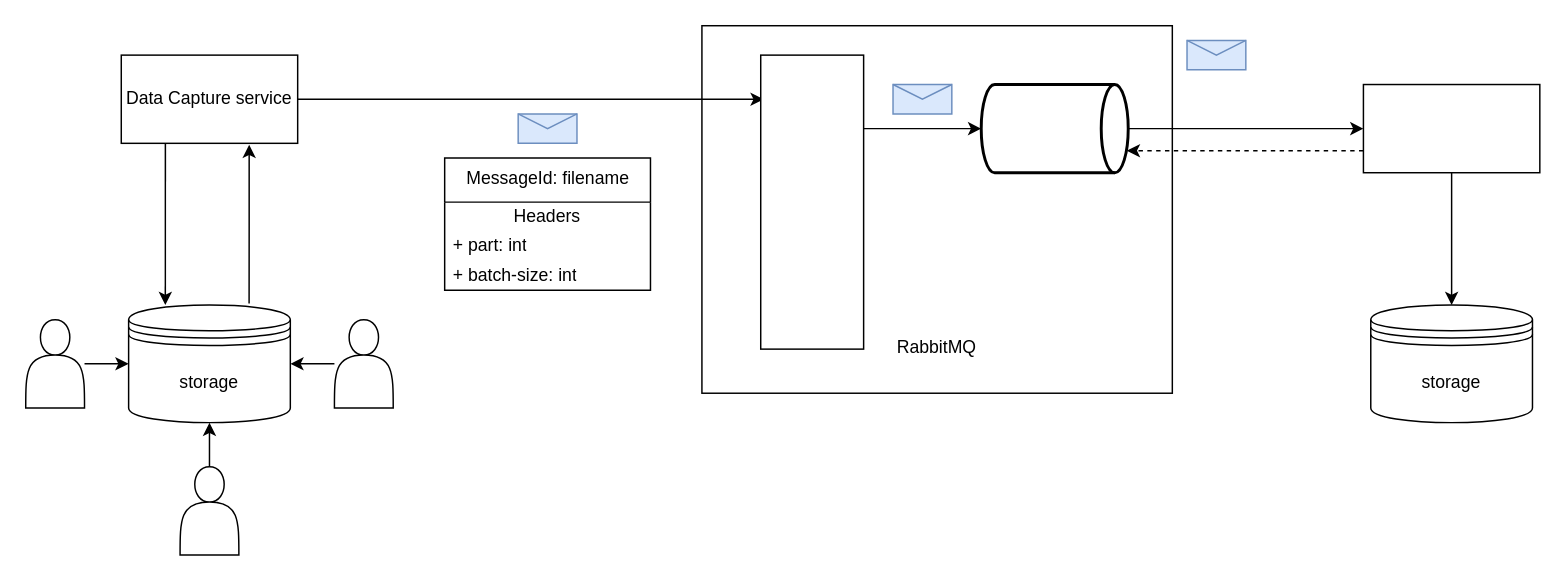
Image size: 1566x581. Some labels were removed from this diagram. Each missing label, with the centre of its shape:
Data Processor: point (1451, 128)
queue name FIFO: point (1054, 127)
routing: point (811, 201)
